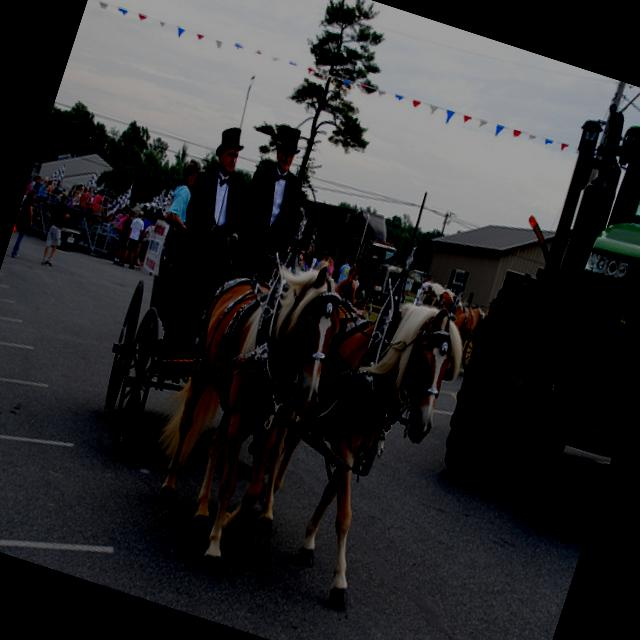Vehicle: (432, 63, 640, 522), (327, 205, 420, 309)
